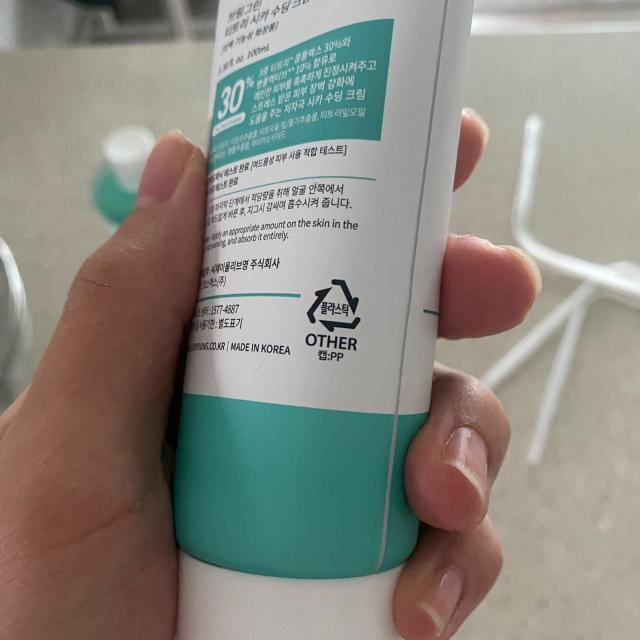Plastic: (306, 276, 365, 334)
